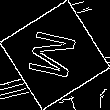M_E: (25, 27, 85, 83)
